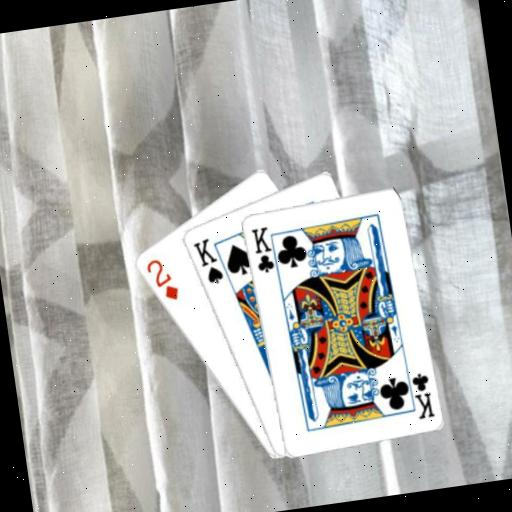2D: (142, 253, 182, 306)
KC: (401, 364, 436, 421), (248, 223, 282, 280)
KS: (188, 234, 225, 289)
